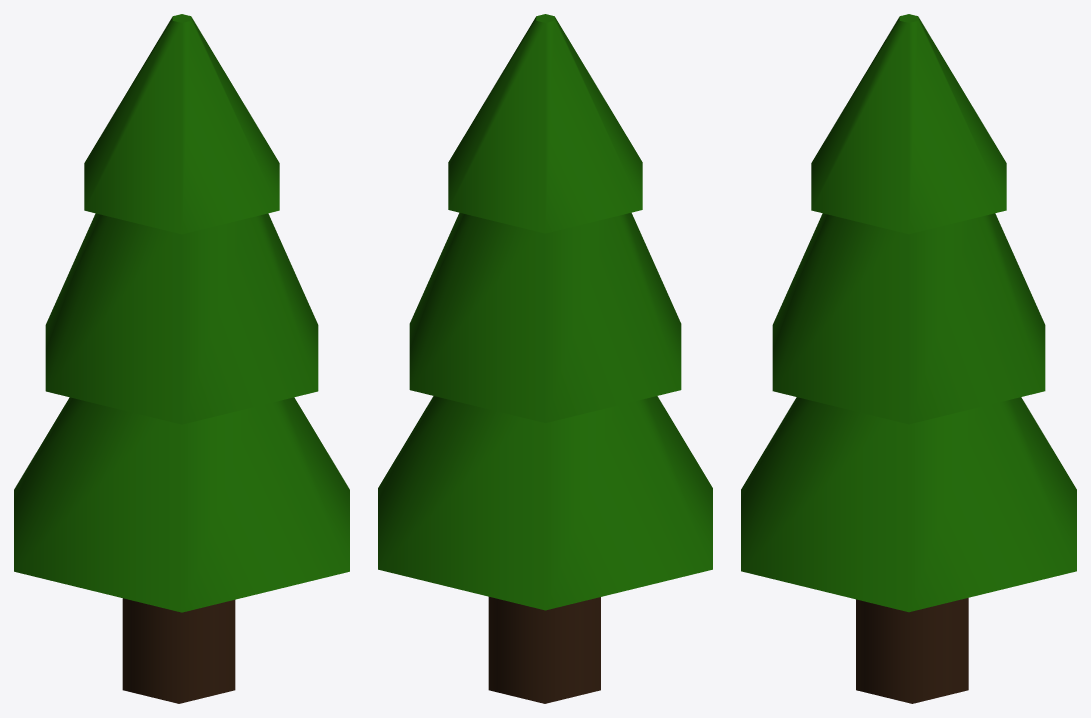
File: pinetree1.FBX
3 views of the same model, side by side, from view 1: azimuth 30°, elevation 25°; view 2: azimuth 150°, elevation 25°; view 3: azimuth 270°, elevation 25° (orthographic).
Parts seen in each view (by area): view 1: Cylinder002, Cylinder003, Cylinder004, Cylinder001; view 2: Cylinder002, Cylinder003, Cylinder004, Cylinder001; view 3: Cylinder002, Cylinder003, Cylinder004, Cylinder001.
Boxes of the visible parts, x1=… form: Cylinder002: x1=14, y1=397, x2=349, y2=612; Cylinder003: x1=45, y1=213, x2=318, y2=424; Cylinder004: x1=84, y1=14, x2=279, y2=234; Cylinder001: x1=122, y1=598, x2=235, y2=703; Cylinder002: x1=378, y1=396, x2=712, y2=610; Cylinder003: x1=409, y1=212, x2=681, y2=422; Cylinder004: x1=448, y1=14, x2=642, y2=233; Cylinder001: x1=488, y1=597, x2=600, y2=703; Cylinder002: x1=741, y1=397, x2=1076, y2=612; Cylinder003: x1=772, y1=213, x2=1045, y2=424; Cylinder004: x1=811, y1=14, x2=1006, y2=234; Cylinder001: x1=856, y1=598, x2=968, y2=703.
Size of the model in its own units: 1266 by 2374 by 1097.
